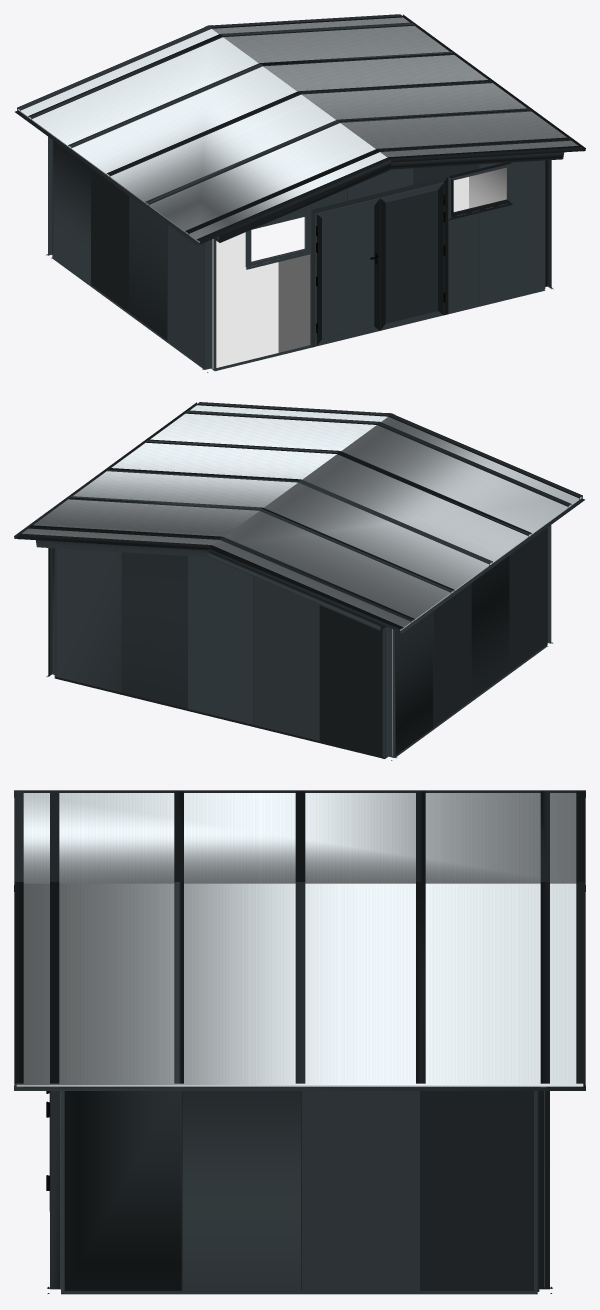
The picture shows the model from 3 angles, top to bottom: view 1: azimuth 30°, elevation 25°; view 2: azimuth 150°, elevation 25°; view 3: azimuth 270°, elevation 25°; orthographic projection. The views are drawn at different scales.
Parts seen in each view (by area): view 1: priximbattable_net_abris_de_jardin_640007_abri_de_jardin_lav, folha, folha_2, porta_avec_hublot_1; view 2: priximbattable_net_abris_de_jardin_640007_abri_de_jardin_lav; view 3: priximbattable_net_abris_de_jardin_640007_abri_de_jardin_lav.
Part boxes in pixels (bbox=[...]): priximbattable_net_abris_de_jardin_640007_abri_de_jardin_lav: bbox=[15, 14, 585, 372]; folha: bbox=[380, 182, 445, 330]; folha_2: bbox=[316, 198, 379, 346]; porta_avec_hublot_1: bbox=[310, 176, 448, 347]; priximbattable_net_abris_de_jardin_640007_abri_de_jardin_lav: bbox=[14, 402, 584, 760]; priximbattable_net_abris_de_jardin_640007_abri_de_jardin_lav: bbox=[14, 790, 585, 1294].
Size of the model in its own units: 589 by 261 by 480.
1 material, 1 textured.
